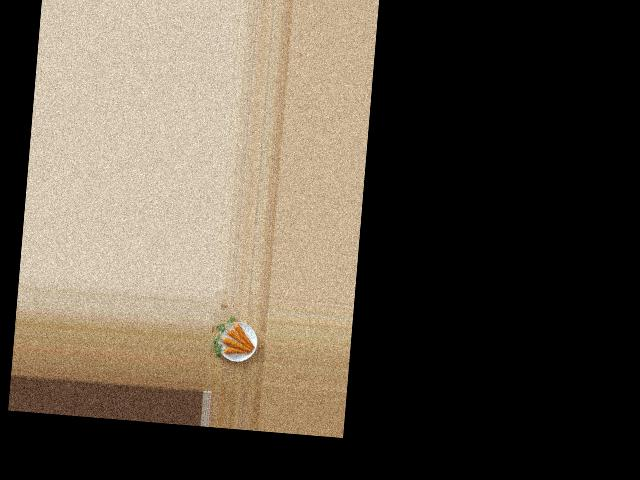carrot: (230, 321, 257, 347)
